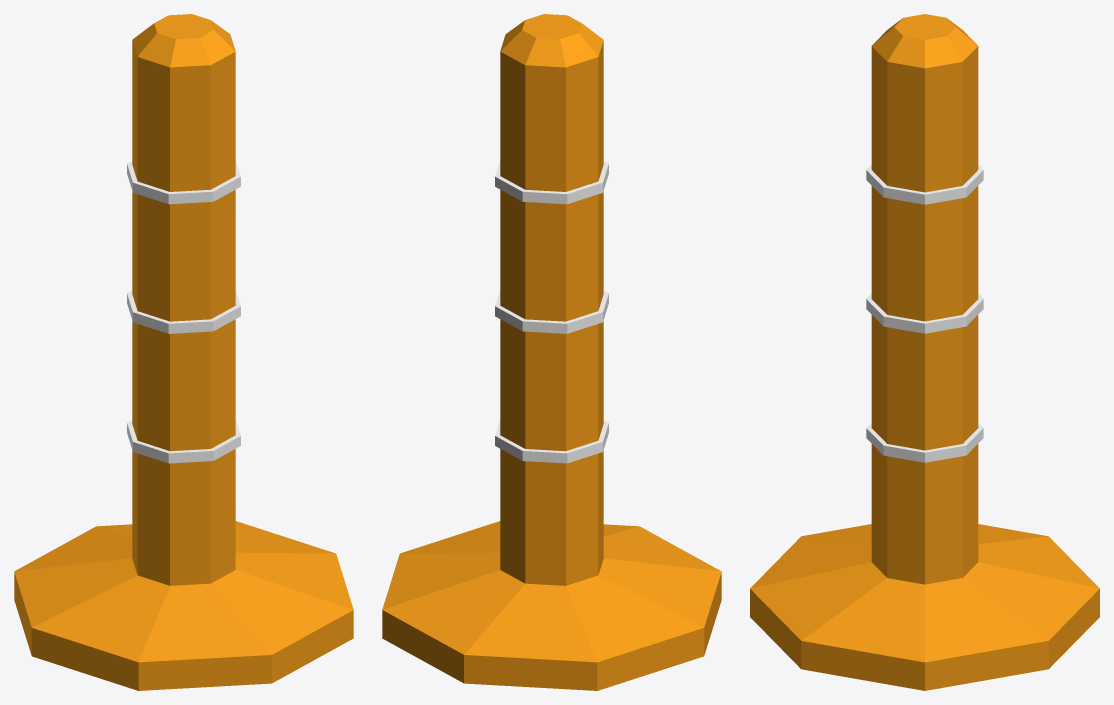
File: traffic_15.fbx
3 views of the same model, side by side, from view 1: azimuth 30°, elevation 25°; view 2: azimuth 150°, elevation 25°; view 3: azimuth 270°, elevation 25° (orthographic).
Parts seen in each view (by area): view 1: Cylinder.035; view 2: Cylinder.035; view 3: Cylinder.035.
Boxes of the visible parts, x1,y1,x2,y2 form: Cylinder.035: (14, 14, 353, 690); Cylinder.035: (382, 14, 721, 690); Cylinder.035: (750, 14, 1099, 690).
Bounding box in the file's own units: 45.2 × 84.09 × 45.2.
